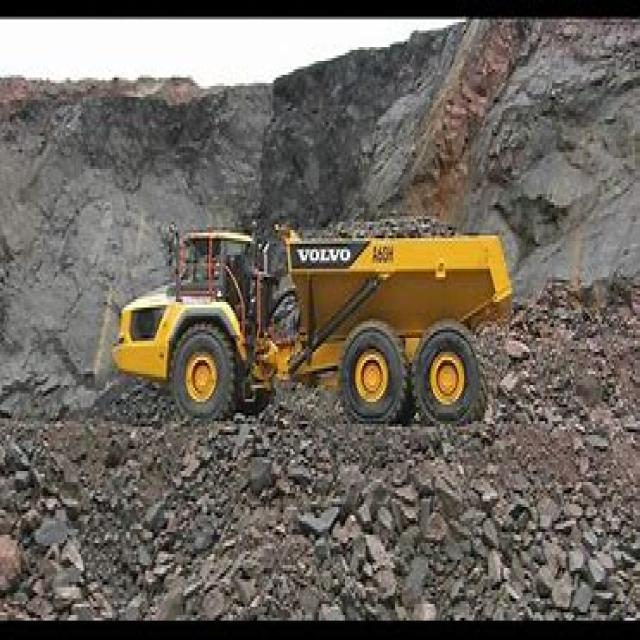dump_truck: (109, 208, 521, 435)
